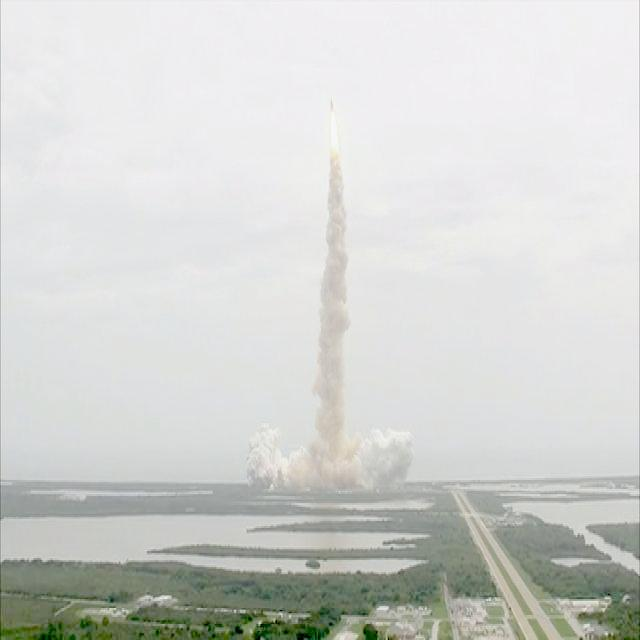fire: (328, 114, 345, 156)
smoke: (248, 427, 281, 494), (373, 434, 410, 486), (316, 341, 348, 398), (314, 408, 345, 462), (278, 443, 310, 490), (348, 434, 374, 491), (319, 285, 346, 336), (309, 464, 346, 499), (323, 226, 346, 272), (328, 165, 344, 222)
